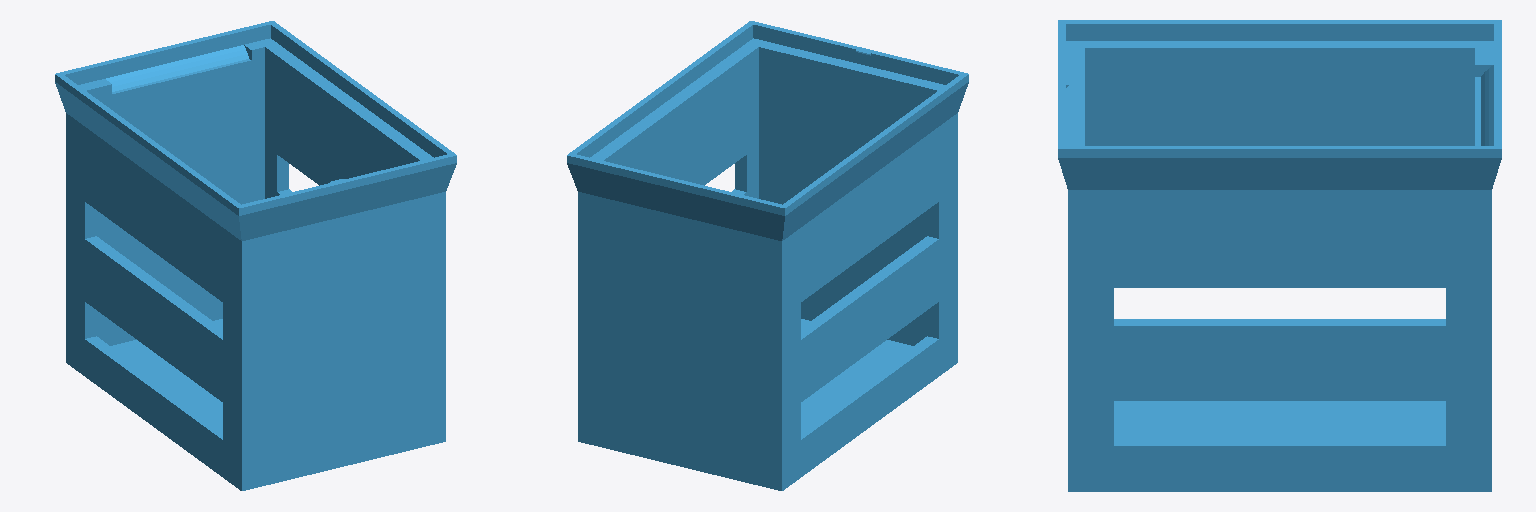
The robot description file, URDF, robot "sensorbox_team10":
<?xml version='1.0' encoding='utf-8'?>
<robot name="sensorbox_team10">
  <link name="world" />
  <joint name="world_joint" type="fixed">
    <parent link="world" />
    <child link="body" />
    <origin rpy="0 0 0" xyz="0 0 0" />
  </joint>
  <link name="body">
    <visual>
      <geometry><mesh filename="SensorBox.stl" scale="0.001 0.001 0.001" /></geometry>
    </visual>
    <collision>
      <geometry><mesh filename="SensorBox.stl" scale="0.001 0.001 0.001" /></geometry>
    </collision>
  </link>
</robot>

--- Render facts (derived) ---
3 views of the same robot in one strip: view 1: azimuth 30°, elevation 25°; view 2: azimuth 150°, elevation 25°; view 3: azimuth 270°, elevation 25° (orthographic).
Robot: sensorbox_team10 — 2 links, 1 joints (1 fixed); root link world; default pose: all joints at 0.
Visible links, largest first — view 1: body; view 2: body; view 3: body.
Link boxes in pixels (x1,y1,x2,y2): body: (55, 21, 456, 490); body: (567, 21, 968, 490); body: (1058, 20, 1501, 491).
Size in the robot's own frame: 0.0915 by 0.1335 by 0.115 metres.
Meshes: 1 distinct files referenced, 1 mesh visuals loaded (1 binary STL).
